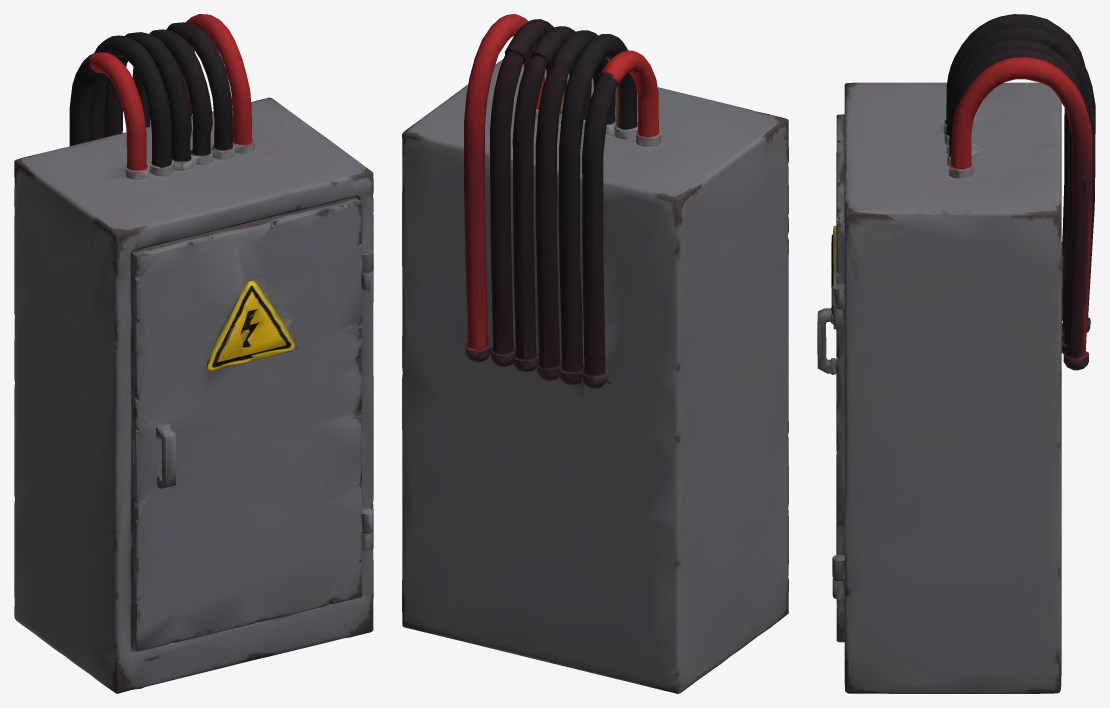
The model's file is decor_electric_cabinet_idle.glb.
3 renders of one model, left to right at view 1: azimuth 30°, elevation 25°; view 2: azimuth 150°, elevation 25°; view 3: azimuth 270°, elevation 25°, orthographic. The views are drawn at different scales.
Parts seen in each view (by area): view 1: tripo_node_493e898d-ad70-4d1f-83ce-d63dcac0278e; view 2: tripo_node_493e898d-ad70-4d1f-83ce-d63dcac0278e; view 3: tripo_node_493e898d-ad70-4d1f-83ce-d63dcac0278e.
Part boxes in pixels (left/top/right/bottom): tripo_node_493e898d-ad70-4d1f-83ce-d63dcac0278e: left=14, top=14, right=373, bottom=693; tripo_node_493e898d-ad70-4d1f-83ce-d63dcac0278e: left=402, top=14, right=788, bottom=693; tripo_node_493e898d-ad70-4d1f-83ce-d63dcac0278e: left=817, top=14, right=1095, bottom=693.
Size of the model in its own units: 0.6613 by 1.4 by 0.5901.
1 material, 1 textured.
